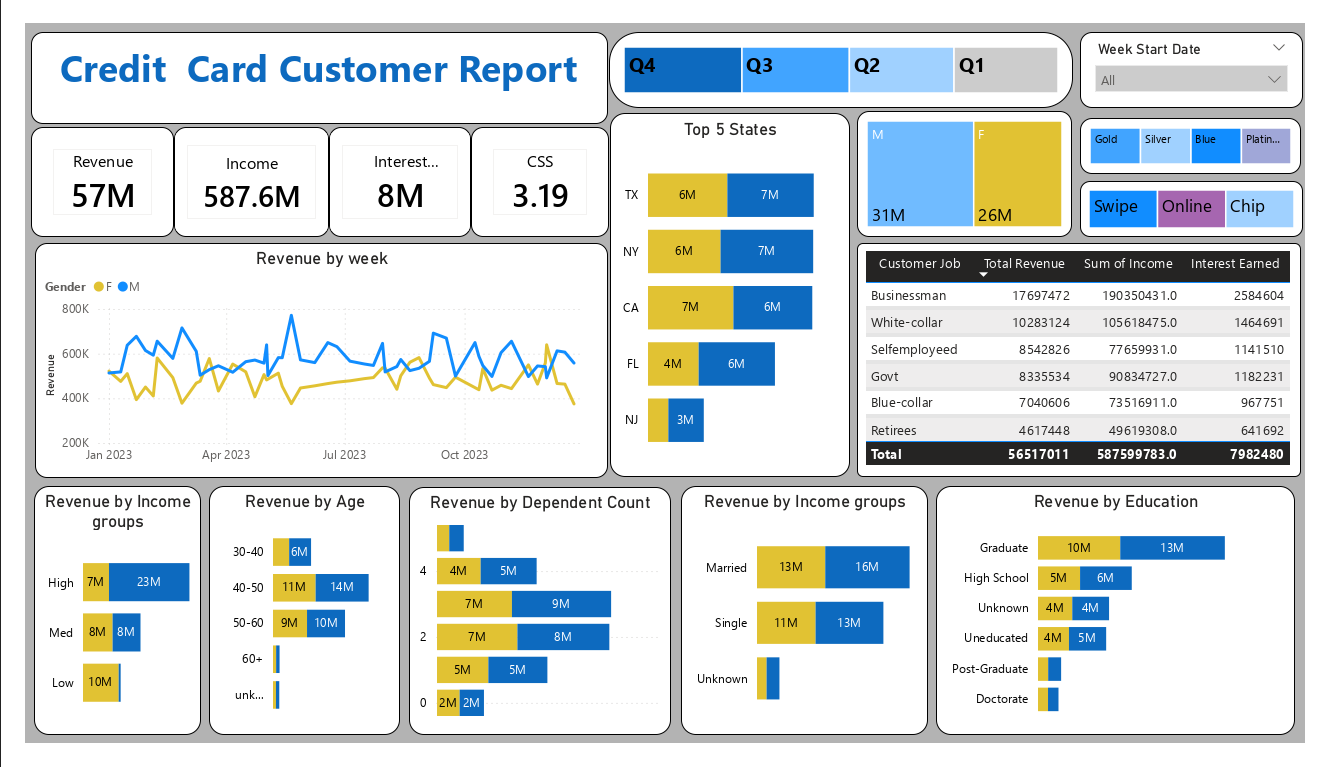

The dashboard page shown, as its layout file describes it:
{"tool":"powerbi","page":{"name":"CC Customers","canvas":[1280,720],"ordinal":2},"visuals":[{"type":"tableEx","fields":{"Values":["cust_detail.Customer_Job","Sum(cc_detail.Revenue)","Sum(cust_detail.Income)","Sum(cc_detail.Interest_Earned)"]},"box":[832.2,220.3,443.6,233.8],"z":0},{"type":"cardVisual","fields":{"Data":["Sum(cc_detail.Revenue)"]},"box":[6.5,103.5,142.3,110],"z":1000},{"type":"cardVisual","fields":{"Data":["Sum(cust_detail.Income)"]},"box":[148.8,103.5,155.3,110],"z":2000},{"type":"cardVisual","fields":{"Data":["Sum(cc_detail.Interest_Earned)"]},"box":[304.1,103.5,142.3,110],"z":3000},{"type":"cardVisual","fields":{"Data":["Avg(cust_detail.Cust_Satisfaction_Score)"]},"box":[446.4,103.5,138,110],"z":4000},{"type":"slicer","fields":{"Values":["cc_detail.Week_Start_Date"]},"box":[1055.3,9.1,222.8,76.1],"z":5000},{"type":"treemap","fields":{"Values":["Avg(cc_detail.Client_Num)"],"Group":["cc_detail.Card_Category"]},"box":[1054.5,95.1,221.1,56.4],"z":6000},{"type":"treemap","fields":{"Values":["Avg(cc_detail.Client_Num)"],"Group":["cc_detail.Use_Chip"]},"box":[1054.5,157.9,223.4,56.1],"z":7000},{"type":"textbox","box":[6.5,8.6,576.9,92.7],"z":8000},{"type":"barChart","title":"Revenue by Income groups","fields":{"Y":["Sum(cc_detail.Revenue)"],"Category":["cust_detail.IncomeGroup"],"Series":["cust_detail.Gender"]},"box":[9.4,463.4,166.2,248.3],"z":9000},{"type":"treemap","fields":{"Group":["cc_detail.Qtr"],"Values":["Avg(cc_detail.Client_Num)"]},"box":[584.3,9.1,463.8,76.1],"z":10000},{"type":"lineChart","title":"Revenue by week","fields":{"Y":["Sum(cc_detail.Revenue)"],"Category":["cc_detail.Week_Start_Date.Variation.Date Hierarchy.Year","cc_detail.Week_Start_Date.Variation.Date Hierarchy.Quarter","cc_detail.Week_Start_Date.Variation.Date Hierarchy.Month","cc_detail.Week_Start_Date.Variation.Date Hierarchy.Day"],"Series":["cust_detail.Gender"]},"box":[9.5,220.2,573.6,234.4],"z":11000},{"type":"treemap","fields":{"Group":["cust_detail.Gender"],"Values":["Sum(cc_detail.Revenue)"]},"box":[832.2,88.3,215.1,125.7],"z":12000},{"type":"barChart","title":"Revenue by Age","fields":{"Y":["Sum(cc_detail.Revenue)"],"Category":["cust_detail.AgeGroup"],"Series":["cust_detail.Gender"]},"box":[183.9,463.4,191.2,248.3],"z":13000},{"type":"barChart","title":"Revenue by Dependent Count","fields":{"Y":["Sum(cc_detail.Revenue)"],"Category":["cust_detail.Dependent_Count"],"Series":["cust_detail.Gender"]},"box":[384.4,464.4,261.8,247.3],"z":14000},{"type":"barChart","title":"Revenue by Education","fields":{"Y":["Sum(cc_detail.Revenue)"],"Category":["cust_detail.Education_Level"],"Series":["cust_detail.Gender"]},"box":[911.2,463.4,358.4,248.3],"z":15000},{"type":"barChart","title":"Top 5 States","fields":{"Y":["Sum(cc_detail.Revenue)"],"Category":["cust_detail.State_cd"],"Series":["cust_detail.Gender"]},"box":[584.9,90.4,240,363.6],"z":16000},{"type":"barChart","title":"Revenue by Income groups","fields":{"Y":["Sum(cc_detail.Revenue)"],"Category":["cust_detail.Marital_Status"],"Series":["cust_detail.Gender"]},"box":[655.6,463.4,247.3,248.3],"z":17000}]}

Visuals, with their boxes in screenshot pixels (x1, y1, x2, y2), scaled from the page's 1280x720 canvas onto the 1329x767 screenshot:
tableEx - cust_detail.Customer_Job x Sum(cc_detail.Revenue): [864, 235, 1325, 484]
cardVisual - Sum(cc_detail.Revenue): [7, 110, 154, 227]
cardVisual - Sum(cust_detail.Income): [154, 110, 316, 227]
cardVisual - Sum(cc_detail.Interest_Earned): [316, 110, 463, 227]
cardVisual - Avg(cust_detail.Cust_Satisfaction_Score): [463, 110, 607, 227]
slicer - cc_detail.Week_Start_Date: [1096, 10, 1327, 91]
treemap - Avg(cc_detail.Client_Num) x cc_detail.Card_Category: [1095, 101, 1324, 161]
treemap - Avg(cc_detail.Client_Num) x cc_detail.Use_Chip: [1095, 168, 1327, 228]
textbox: [7, 9, 606, 108]
"Revenue by Income groups" barChart: [10, 494, 182, 758]
treemap - cc_detail.Qtr x Avg(cc_detail.Client_Num): [607, 10, 1088, 91]
"Revenue by week" lineChart: [10, 235, 605, 484]
treemap - cust_detail.Gender x Sum(cc_detail.Revenue): [864, 94, 1087, 228]
"Revenue by Age" barChart: [191, 494, 389, 758]
"Revenue by Dependent Count" barChart: [399, 495, 671, 758]
"Revenue by Education" barChart: [946, 494, 1318, 758]
"Top 5 States" barChart: [607, 96, 856, 484]
"Revenue by Income groups" barChart: [681, 494, 937, 758]
